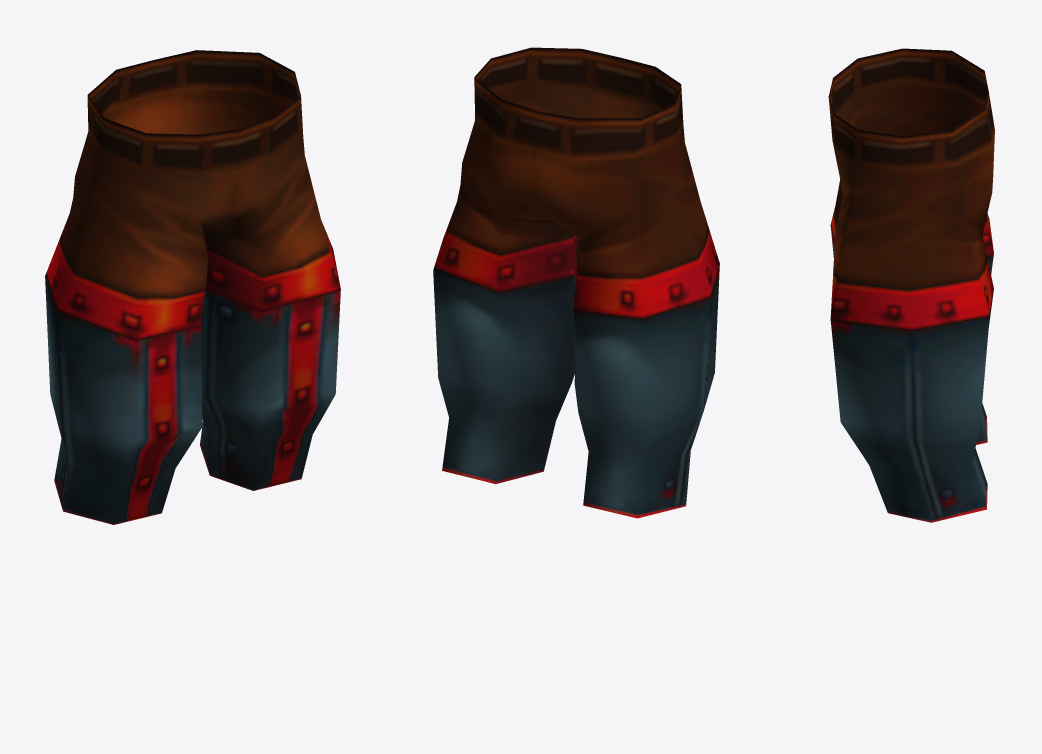
The model's file is hum_engineer_05_f90bf73f.glb.
3 views of the same model, side by side, from view 1: azimuth 30°, elevation 25°; view 2: azimuth 150°, elevation 25°; view 3: azimuth 270°, elevation 25° (orthographic). The views are drawn at different scales.
Size of the model in its own units: 0.7783 by 1.41 by 0.5169.
1 material, 1 textured.
